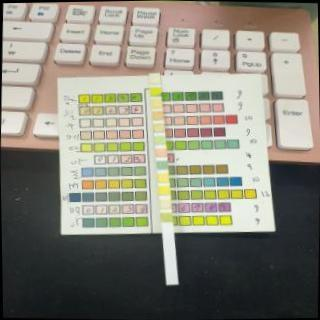mark: (160, 212, 172, 223), (154, 148, 167, 158), (156, 160, 167, 170), (152, 112, 163, 122), (153, 123, 163, 133), (159, 186, 170, 195), (159, 200, 170, 209), (158, 173, 168, 182), (154, 136, 164, 145), (151, 86, 161, 95), (152, 100, 162, 108), (150, 76, 160, 84)
